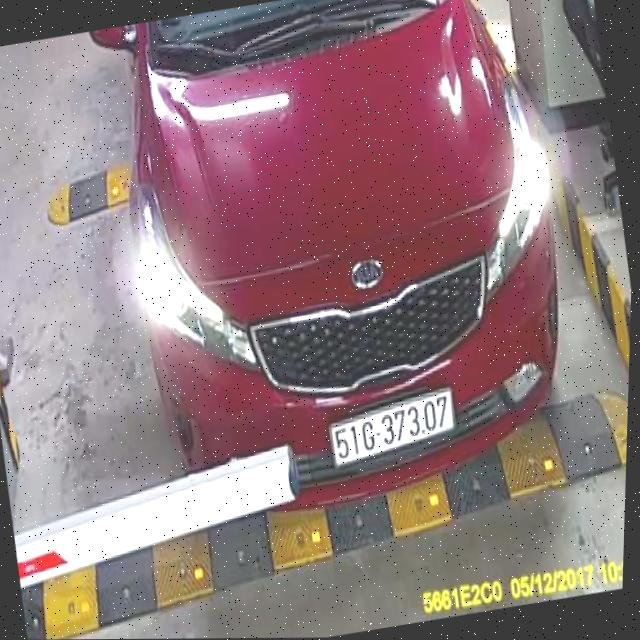car: (66, 0, 610, 527)
plate: (323, 392, 471, 466)
